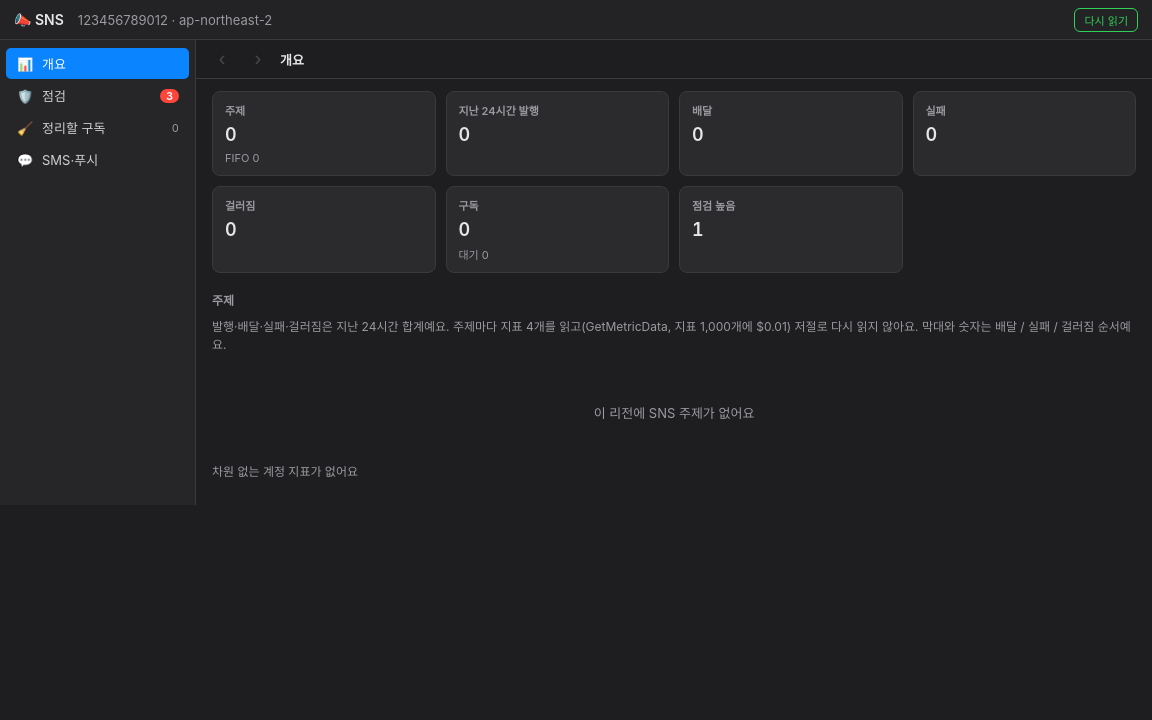
Test case: empty topics and cleanup lists explain their state
Expected: the text "이 리전에 SNS 주제가 없어요" is shown, x1=594 y1=405 x2=754 y2=421
Expected: the text "차원 없는 계정 지표가 없어요" is shown, x1=212 y1=464 x2=358 y2=479
Click the button "🧹 정리할 구독 0" at (98,128), box x1=6 y1=112 x2=189 y2=143
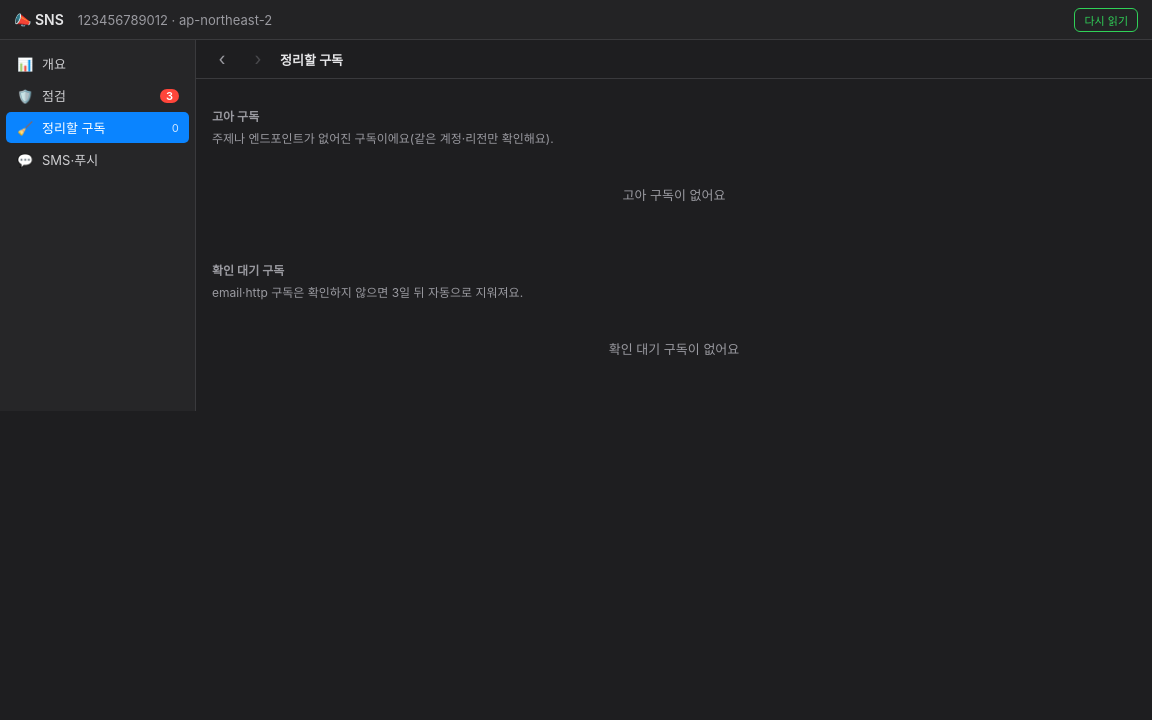
Expected: the text "고아 구독이 없어요" is shown, x1=622 y1=187 x2=726 y2=203
Expected: the text "확인 대기 구독이 없어요" is shown, x1=609 y1=341 x2=739 y2=357
